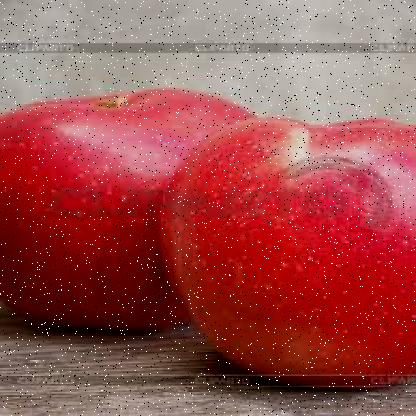apple: (158, 118, 410, 380), (2, 85, 253, 336)
